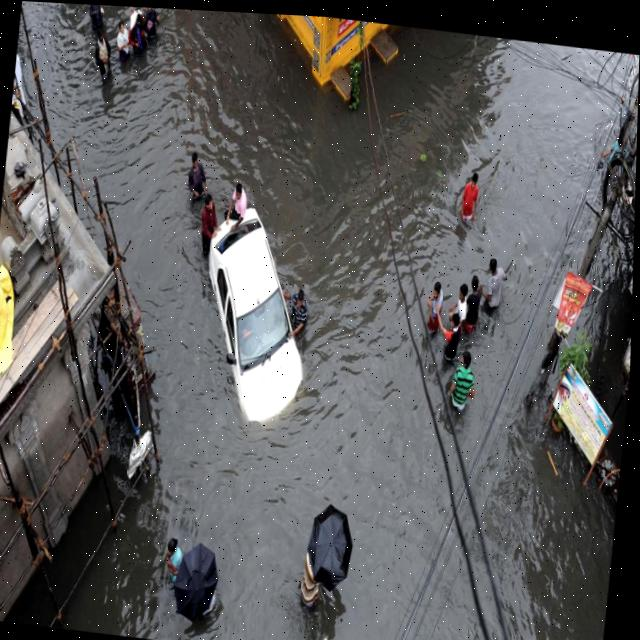civilian: (480, 247, 514, 329), (291, 544, 329, 616), (452, 160, 488, 229), (461, 261, 493, 335), (282, 280, 315, 351), (179, 144, 215, 205), (196, 193, 223, 266), (449, 349, 477, 418), (417, 277, 447, 341), (157, 526, 185, 593), (437, 308, 462, 371), (221, 180, 250, 226), (110, 20, 134, 75), (122, 6, 148, 56), (138, 7, 163, 58), (89, 26, 114, 73), (84, 4, 108, 37), (454, 273, 472, 312)
